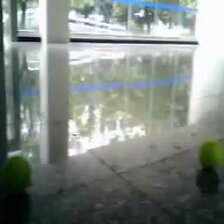tennis: (2, 156, 33, 189), (198, 141, 224, 168)
